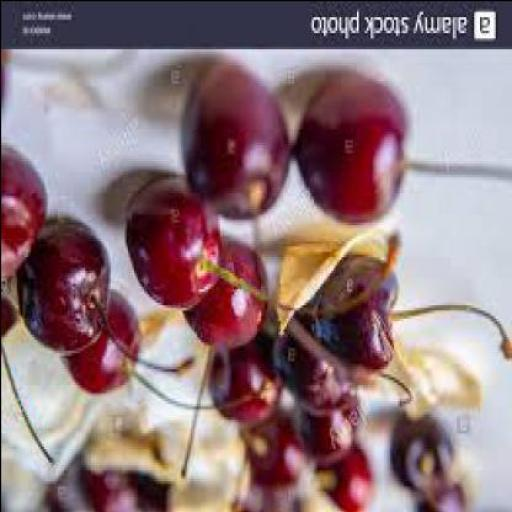biodegradable: (295, 72, 410, 227), (184, 66, 287, 224), (125, 179, 221, 312), (278, 230, 393, 336), (19, 224, 111, 350), (309, 256, 400, 374), (184, 238, 268, 352), (272, 328, 362, 417), (60, 296, 139, 392), (368, 358, 480, 424), (209, 347, 282, 435), (2, 152, 48, 282), (242, 421, 312, 493), (86, 438, 184, 488), (392, 425, 456, 496), (291, 398, 358, 462), (316, 448, 378, 511), (85, 471, 140, 511), (47, 462, 90, 510), (412, 480, 468, 511), (2, 272, 21, 350), (234, 494, 304, 510), (132, 478, 165, 510), (2, 54, 10, 120)
